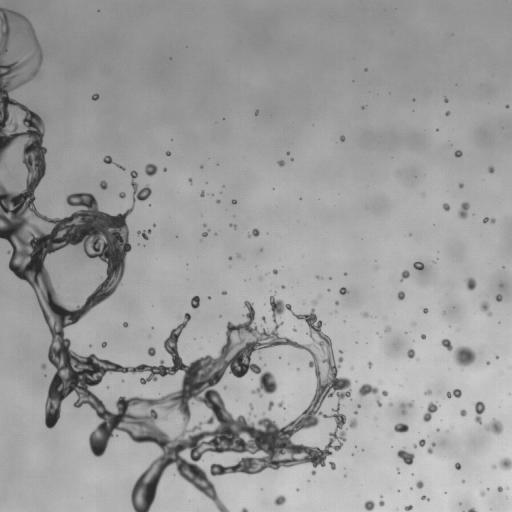droplet: (358, 384, 381, 406), (453, 346, 475, 367), (484, 418, 503, 434), (397, 448, 414, 465), (458, 202, 469, 218), (400, 401, 413, 414), (145, 163, 157, 176), (499, 457, 511, 470), (480, 302, 491, 316), (394, 422, 408, 433), (446, 388, 461, 398), (465, 277, 476, 290), (137, 229, 151, 239), (441, 338, 452, 350), (274, 494, 286, 505), (190, 296, 199, 309), (364, 500, 374, 511), (413, 261, 424, 270), (400, 270, 409, 281), (348, 418, 357, 428), (249, 228, 259, 236), (99, 180, 107, 189), (147, 347, 155, 356), (407, 349, 415, 358), (339, 287, 348, 294), (397, 291, 404, 300), (267, 401, 274, 410), (454, 150, 462, 157), (442, 203, 449, 211), (416, 480, 423, 488), (418, 439, 425, 446), (329, 461, 335, 469), (404, 505, 412, 511), (467, 506, 476, 511), (92, 94, 99, 100), (488, 166, 494, 173), (496, 294, 502, 301), (384, 326, 391, 332), (278, 401, 284, 408), (460, 409, 466, 416), (421, 495, 429, 500), (278, 160, 284, 166), (119, 192, 125, 198), (382, 390, 388, 396), (424, 390, 431, 395), (455, 463, 460, 470), (379, 499, 384, 506), (422, 308, 428, 313), (362, 312, 368, 317), (101, 342, 107, 347), (272, 269, 277, 274), (497, 486, 502, 491), (340, 135, 344, 141), (200, 191, 204, 197), (230, 224, 236, 228), (166, 151, 170, 156), (232, 199, 236, 204), (123, 322, 127, 327), (421, 334, 425, 339), (368, 362, 372, 367), (41, 364, 46, 368), (480, 491, 484, 496), (445, 111, 449, 115), (188, 179, 192, 183), (459, 183, 463, 187), (312, 300, 316, 304), (444, 98, 447, 102), (316, 276, 320, 279), (222, 291, 226, 294), (293, 327, 296, 331), (255, 111, 258, 114), (237, 255, 240, 258), (281, 285, 284, 288), (335, 301, 338, 304), (354, 411, 357, 414), (493, 465, 496, 468), (397, 469, 400, 472), (506, 105, 508, 108), (163, 168, 166, 170), (217, 200, 219, 203), (228, 257, 231, 259), (207, 296, 210, 298), (339, 350, 342, 352), (358, 404, 360, 407), (413, 445, 416, 447), (287, 152, 289, 154), (153, 224, 155, 226), (487, 362, 489, 364), (390, 403, 392, 405)
ligament: (0, 8, 351, 511), (103, 155, 124, 170), (423, 402, 439, 421), (474, 401, 485, 424), (427, 442, 435, 453), (482, 217, 495, 223), (202, 230, 209, 236), (249, 404, 253, 414), (241, 507, 248, 511), (262, 316, 266, 322)
